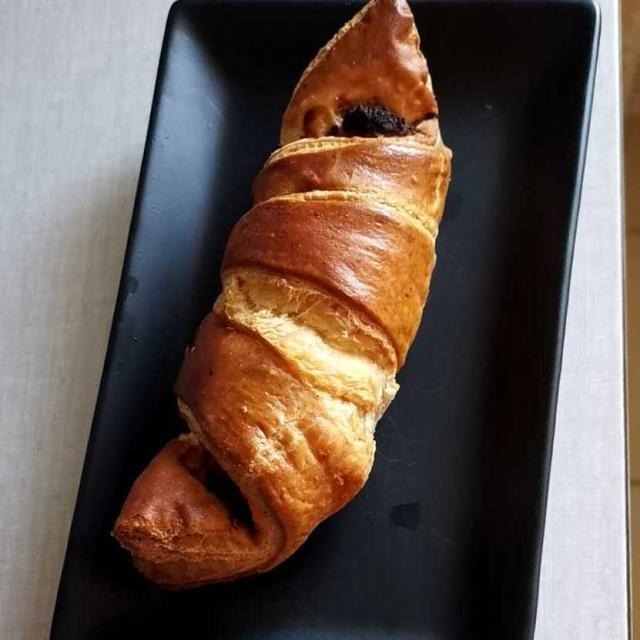croissant: (122, 13, 439, 580)
